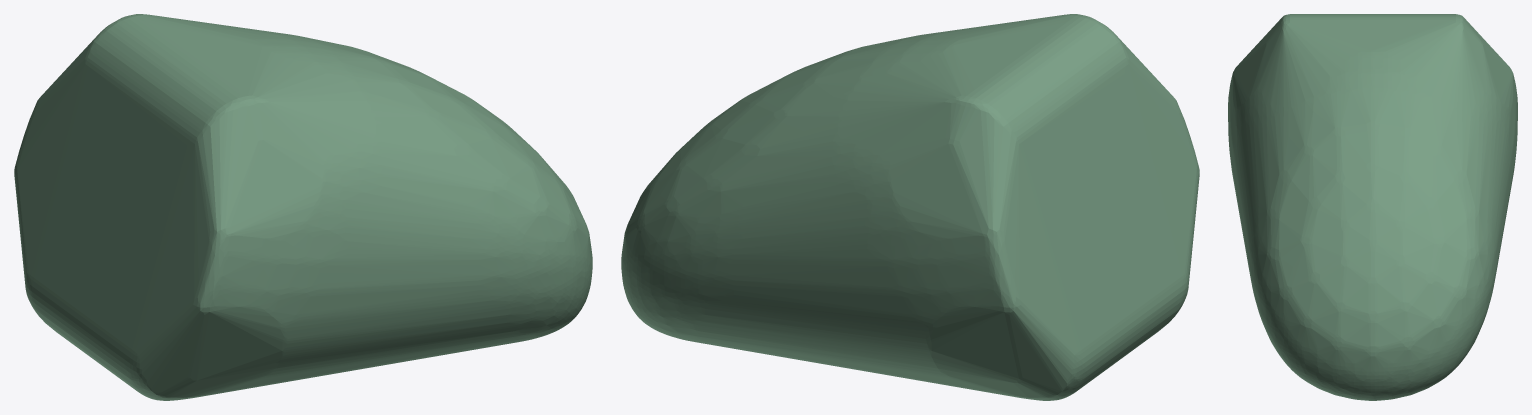
3 renders of one model, left to right at view 1: azimuth 30°, elevation 25°; view 2: azimuth 150°, elevation 25°; view 3: azimuth 270°, elevation 25°, orthographic. The views are drawn at different scales.
Visible parts, largest first — view 1: geometry_0; view 2: geometry_0; view 3: geometry_0.
Boxes of the visible parts, x1,y1,x2,y2 form: geometry_0: (14,14,592,400); geometry_0: (621,14,1199,400); geometry_0: (1228,14,1517,400).
Size of the model in its own units: 0.0302 by 0.0201 by 0.0204.
